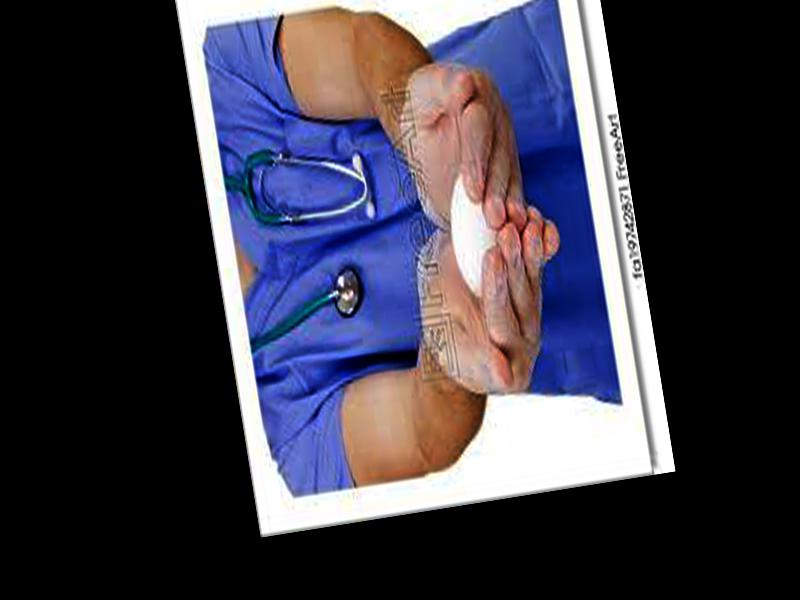Eggs: (441, 168, 508, 296)
